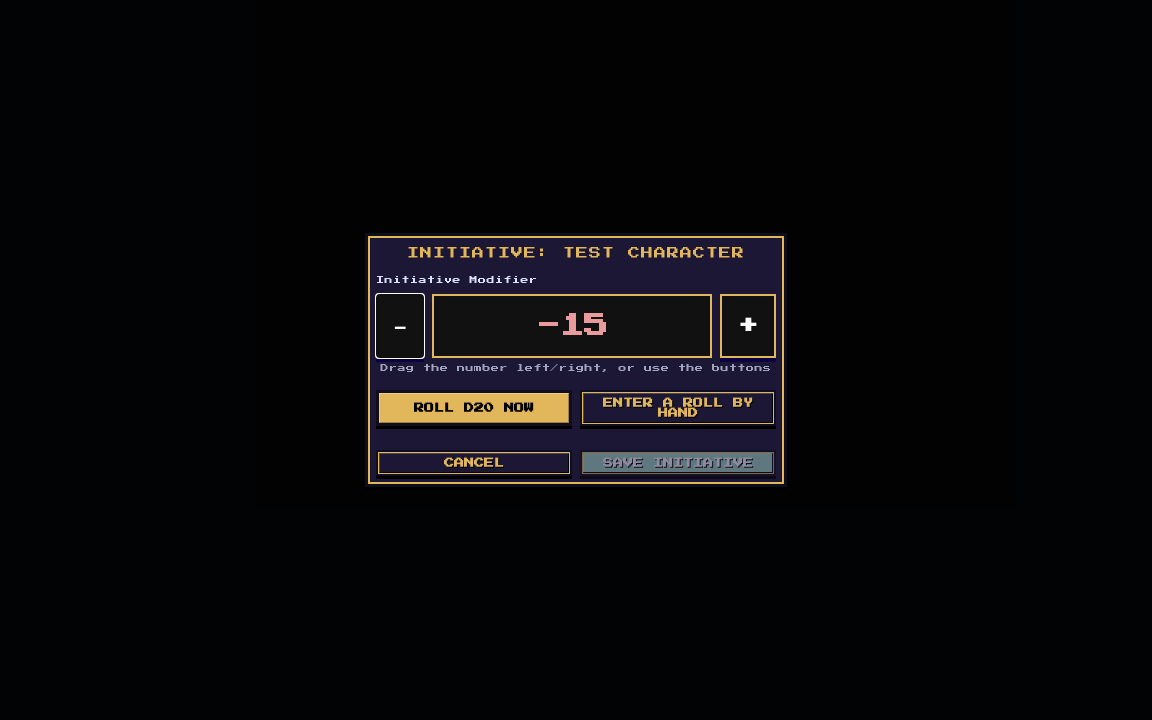
Test: InitiativeModal - Modifier Drag Interaction › clamped to -20 minimum
The image size is (1152, 720).
Step 1. Press the mouse on the text "-15" → (572, 326), box [432, 294, 712, 358]
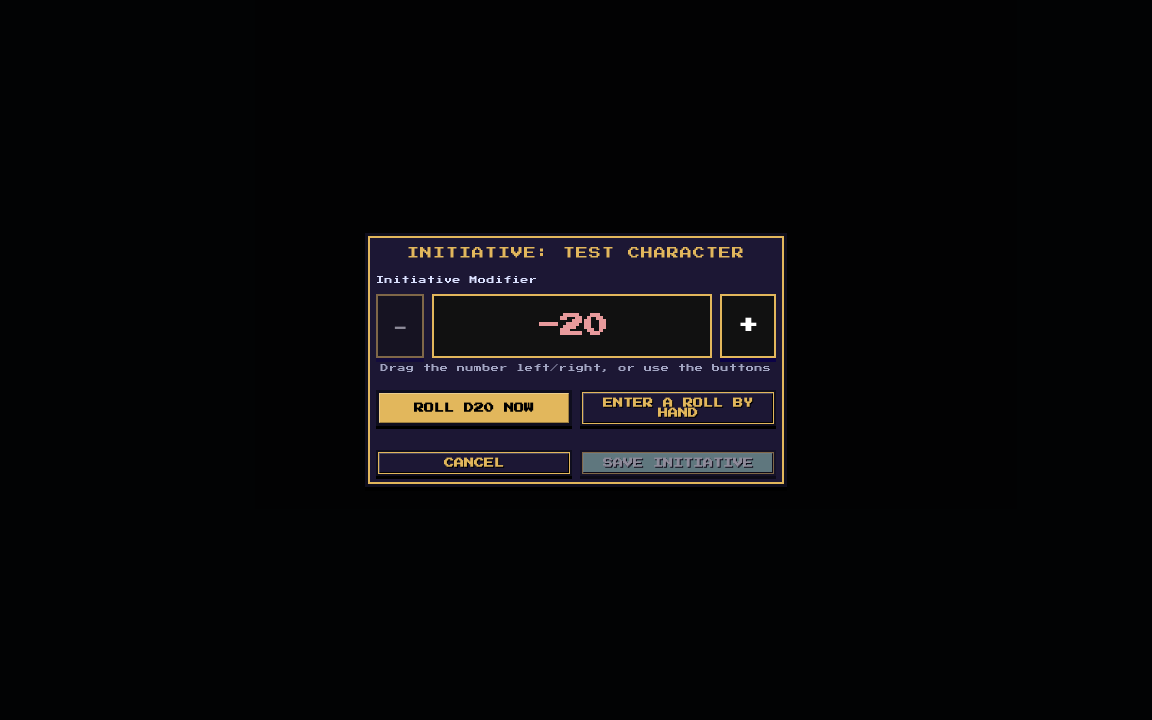
expect the text "-20" is shown: met, box [432, 294, 712, 358]
